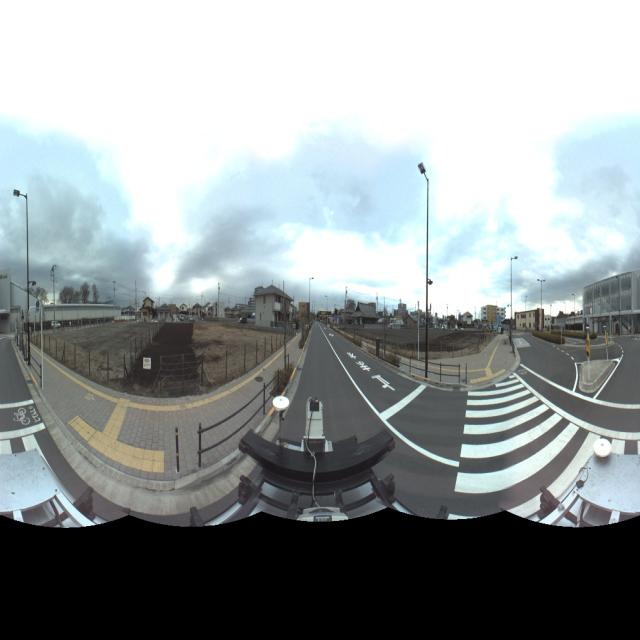b_1: (579, 265, 640, 349), (253, 276, 295, 338), (512, 302, 552, 335), (479, 296, 509, 330), (138, 295, 162, 323)
